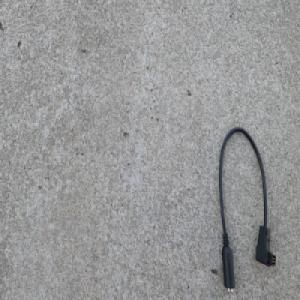Wire: (217, 123, 276, 294)
